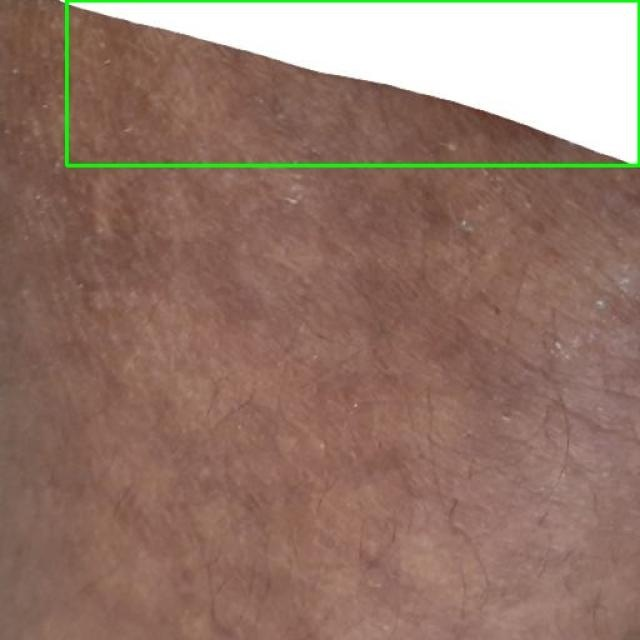Contact Dermatitis: (66, 0, 639, 165)
